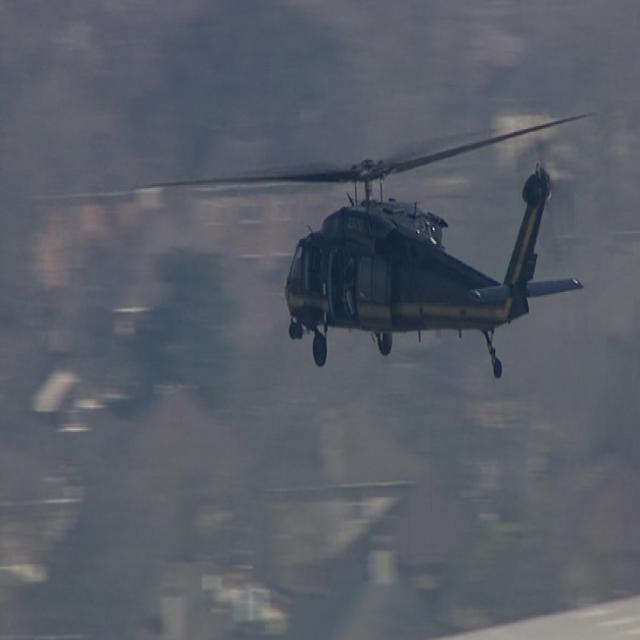helicopter: (146, 113, 597, 377)
